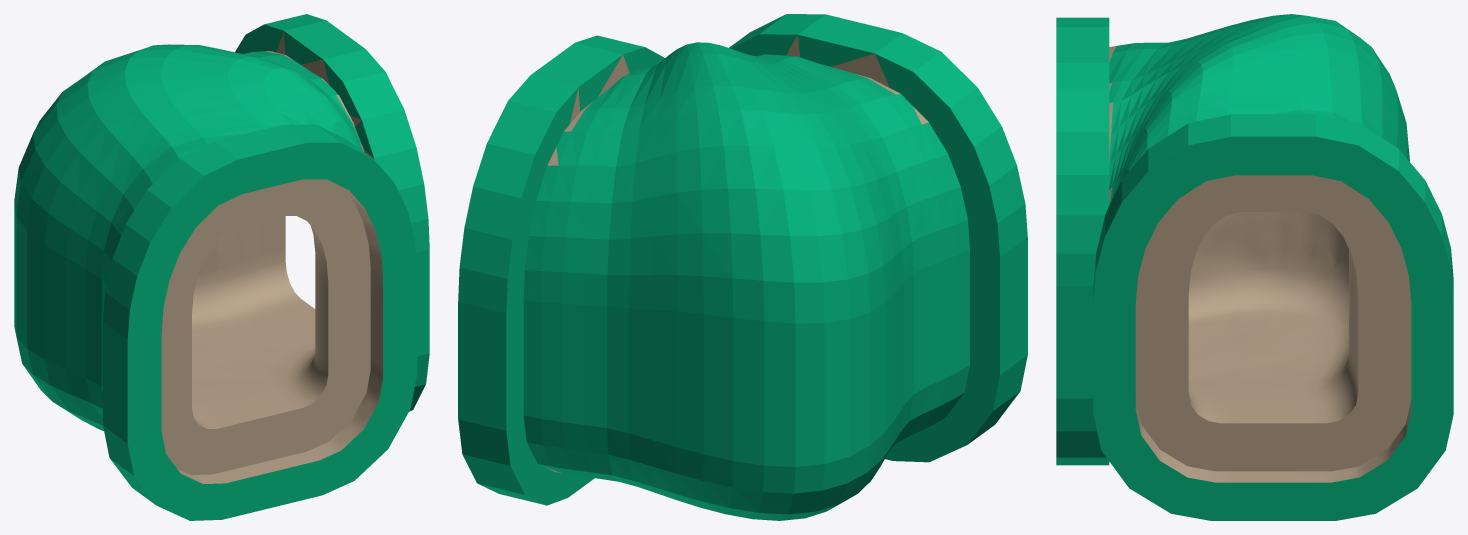
File: TT_Turn90_C.fbx
3 renders of one model, left to right at view 1: azimuth 30°, elevation 25°; view 2: azimuth 150°, elevation 25°; view 3: azimuth 270°, elevation 25°, orthographic. The views are drawn at different scales.
Visible parts, largest first — view 1: TT_Turn90_C_LOD0; view 2: TT_Turn90_C_LOD0; view 3: TT_Turn90_C_LOD0.
Boxes of the visible parts, box(x1,y1,x2,y2) form: TT_Turn90_C_LOD0: box(14, 14, 429, 520); TT_Turn90_C_LOD0: box(458, 14, 1027, 520); TT_Turn90_C_LOD0: box(1056, 14, 1453, 520).
Size of the model in its own units: 375 by 423 by 375.
